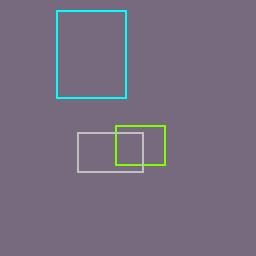Face Mask: (56, 10, 127, 99)
Safety Vest: (114, 125, 166, 165)
Smoke: (77, 132, 143, 172)
